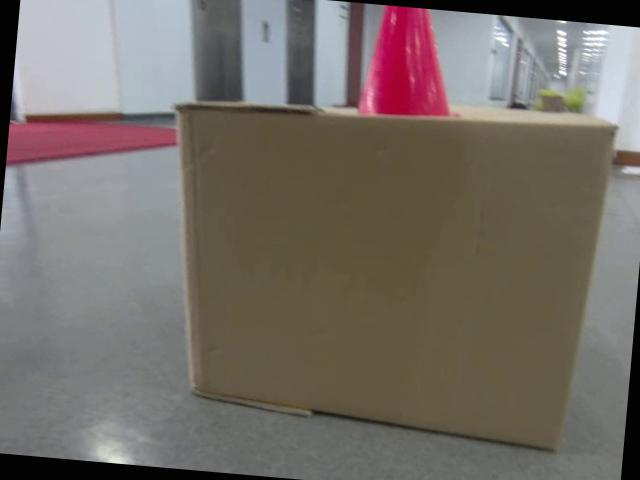red_barrel: (351, 3, 470, 125)
